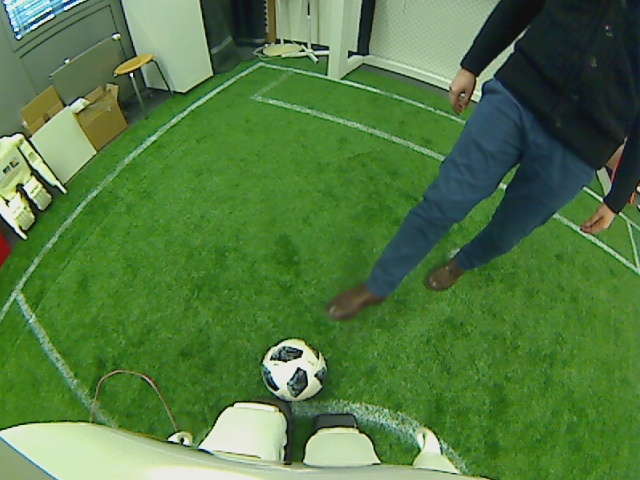ball: (259, 337, 328, 404)
